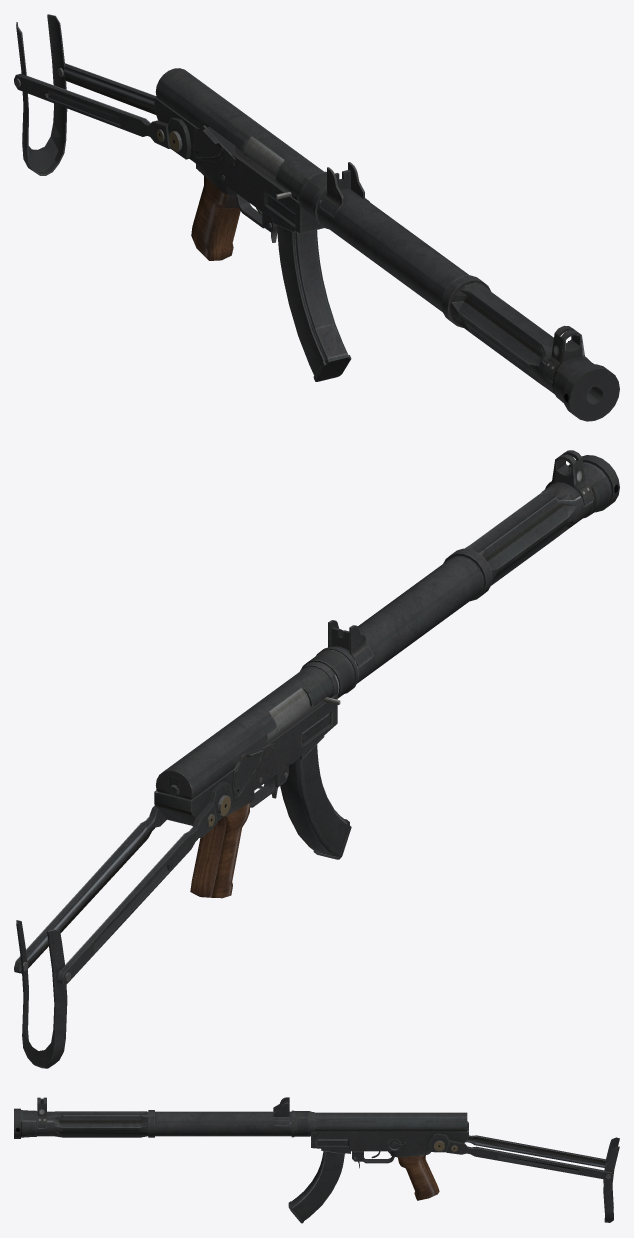
File: type64_smg.glb
3 views of the same model, one above another, from view 1: azimuth 30°, elevation 25°; view 2: azimuth 150°, elevation 25°; view 3: azimuth 270°, elevation 25° (orthographic). The views are drawn at different scales.
Parts seen in each view (by area): view 1: Object_2; view 2: Object_2; view 3: Object_2.
Boxes of the visible parts, x1,y1,x2,y2 form: Object_2: (14, 14, 619, 421); Object_2: (14, 450, 619, 1068); Object_2: (14, 1097, 619, 1223).
Bounding box in the file's own units: 83.01 × 317 × 1413.
Materials: 1 (1 with a texture image).
